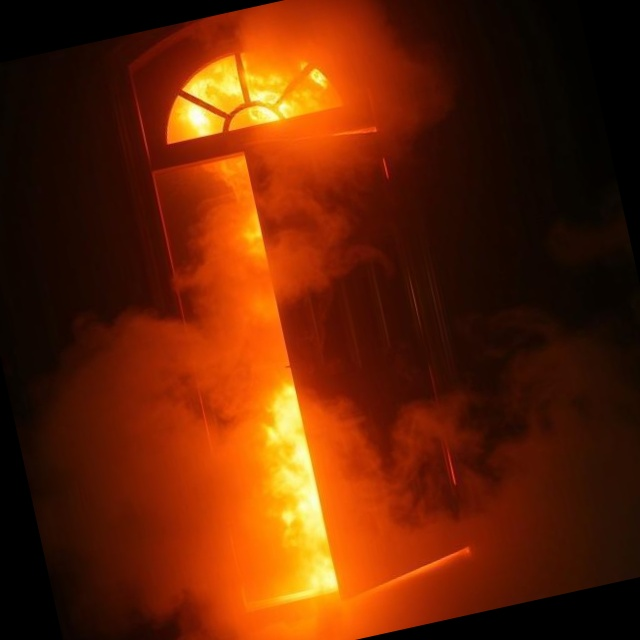fire: (80, 0, 523, 640)
